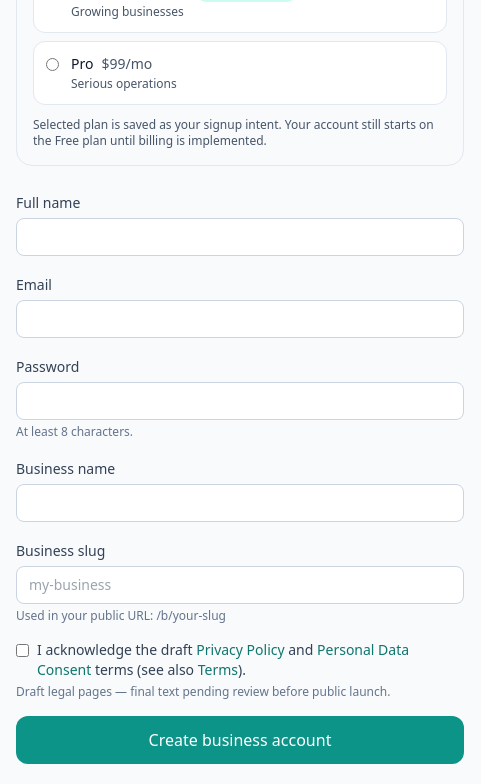
RegisterPage › B. missing required fields show validation
(page scrolled)
What coordinates should you click on to do the following:
click the button "Create business account"
I would click on:
 (240, 740)
Its box is [16,716,464,764].
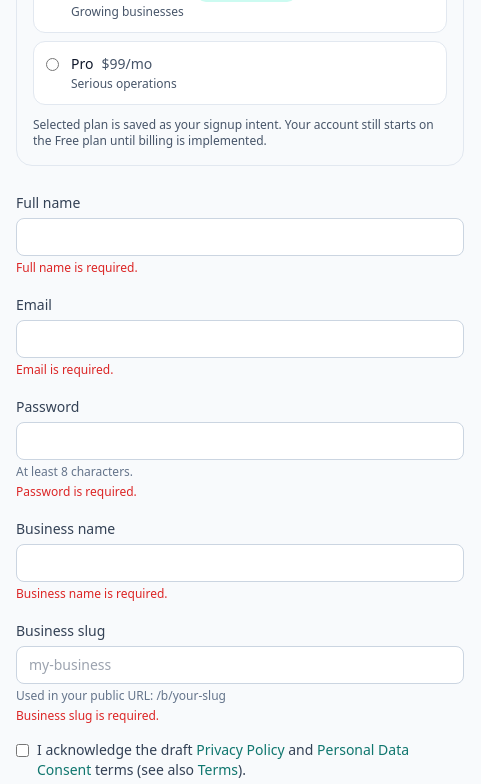
Expected: the text "Full name is required." is shown, [16,259,138,276]
Expected: the text "Email is required." is shown, [16,361,113,378]
Expected: the text "Password is required." is shown, [16,483,137,500]
